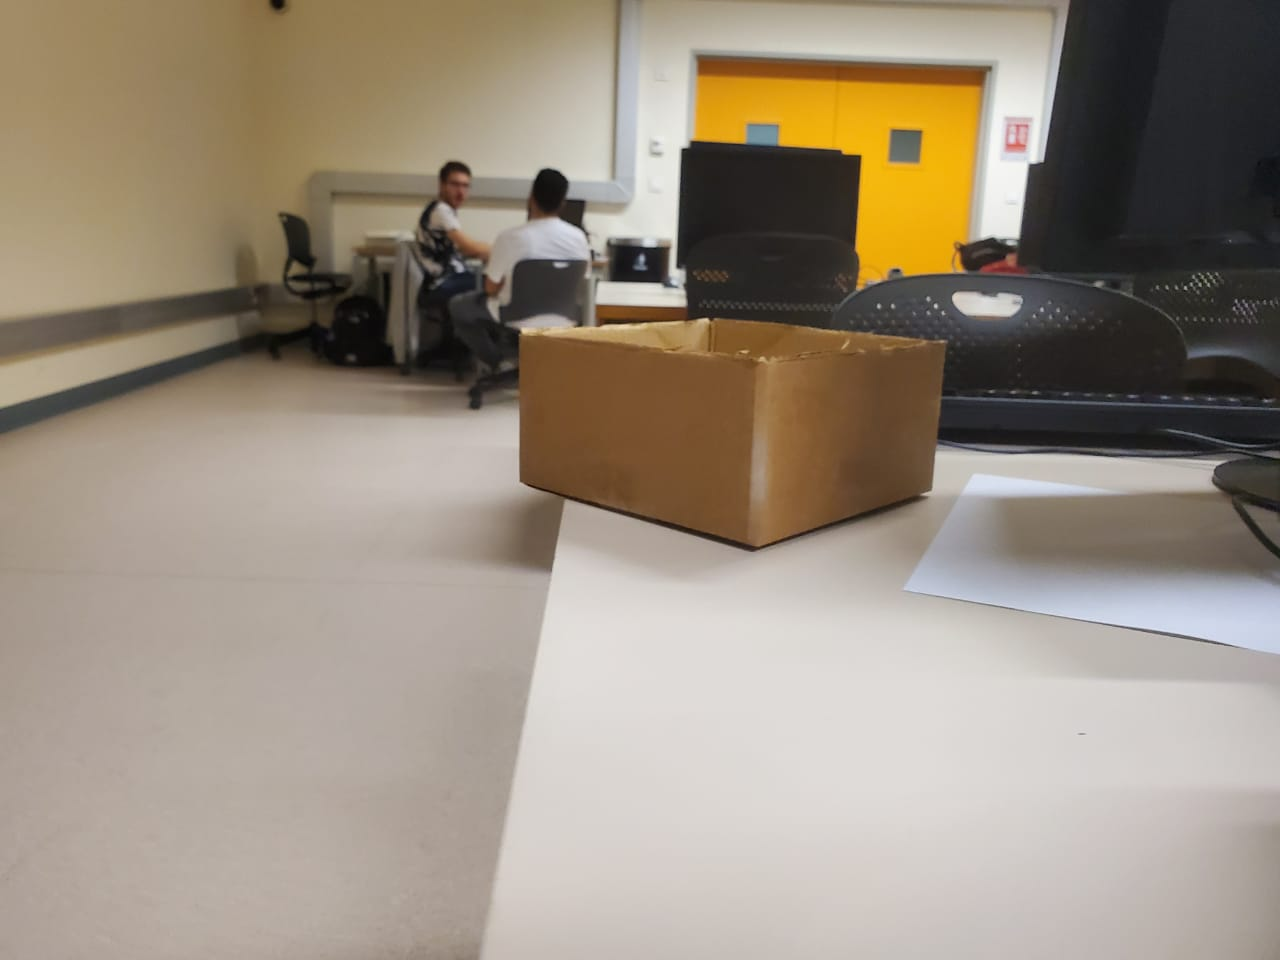CBox: (511, 311, 950, 564)
